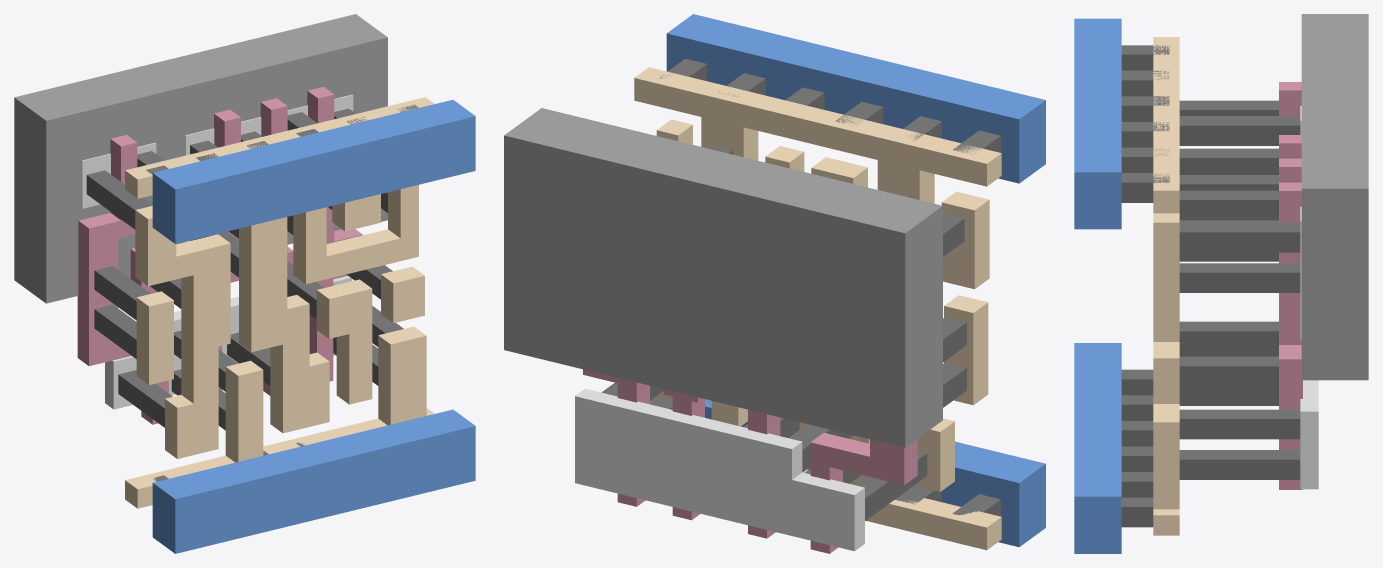
The model's file is sky130_fd_sc_hd__a21boi_1.gds.gltf.
3 renders of one model, left to right at view 1: azimuth 30°, elevation 25°; view 2: azimuth 150°, elevation 25°; view 3: azimuth 270°, elevation 25°, orthographic. The views are drawn at different scales.
Visible parts, largest first — view 1: sky130_fd_sc_hd__a21boi_1_li1, sky130_fd_sc_hd__a21boi_1_met1, sky130_fd_sc_hd__a21boi_1_nwell, sky130_fd_sc_hd__a21boi_1_licon, sky130_fd_sc_hd__a21boi_1_poly, sky130_fd_sc_hd__a21boi_1_diff, sky130_fd_sc_hd__a21boi_1_mcon; view 2: sky130_fd_sc_hd__a21boi_1_nwell, sky130_fd_sc_hd__a21boi_1_li1, sky130_fd_sc_hd__a21boi_1_met1, sky130_fd_sc_hd__a21boi_1_diff, sky130_fd_sc_hd__a21boi_1_poly, sky130_fd_sc_hd__a21boi_1_licon, sky130_fd_sc_hd__a21boi_1_mcon; view 3: sky130_fd_sc_hd__a21boi_1_licon, sky130_fd_sc_hd__a21boi_1_nwell, sky130_fd_sc_hd__a21boi_1_met1, sky130_fd_sc_hd__a21boi_1_li1, sky130_fd_sc_hd__a21boi_1_mcon, sky130_fd_sc_hd__a21boi_1_poly, sky130_fd_sc_hd__a21boi_1_diff.
Part boxes in pixels (x1=…): sky130_fd_sc_hd__a21boi_1_li1: x1=125, y1=97, x2=434, y2=508; sky130_fd_sc_hd__a21boi_1_met1: x1=152, y1=99, x2=475, y2=553; sky130_fd_sc_hd__a21boi_1_nwell: x1=14, y1=14, x2=387, y2=303; sky130_fd_sc_hd__a21boi_1_licon: x1=86, y1=108, x2=403, y2=430; sky130_fd_sc_hd__a21boi_1_poly: x1=77, y1=86, x2=362, y2=424; sky130_fd_sc_hd__a21boi_1_diff: x1=81, y1=94, x2=353, y2=409; sky130_fd_sc_hd__a21boi_1_mcon: x1=146, y1=104, x2=418, y2=481; sky130_fd_sc_hd__a21boi_1_nwell: x1=504, y1=108, x2=942, y2=447; sky130_fd_sc_hd__a21boi_1_li1: x1=634, y1=67, x2=1001, y2=550; sky130_fd_sc_hd__a21boi_1_met1: x1=666, y1=14, x2=1045, y2=547; sky130_fd_sc_hd__a21boi_1_diff: x1=575, y1=388, x2=864, y2=551; sky130_fd_sc_hd__a21boi_1_poly: x1=583, y1=369, x2=917, y2=553; sky130_fd_sc_hd__a21boi_1_licon: x1=601, y1=145, x2=966, y2=520; sky130_fd_sc_hd__a21boi_1_mcon: x1=658, y1=58, x2=1000, y2=516; sky130_fd_sc_hd__a21boi_1_licon: x1=1179, y1=100, x2=1300, y2=479; sky130_fd_sc_hd__a21boi_1_nwell: x1=1301, y1=14, x2=1368, y2=380; sky130_fd_sc_hd__a21boi_1_met1: x1=1074, y1=18, x2=1121, y2=553; sky130_fd_sc_hd__a21boi_1_li1: x1=1153, y1=37, x2=1179, y2=535; sky130_fd_sc_hd__a21boi_1_mcon: x1=1121, y1=45, x2=1169, y2=527; sky130_fd_sc_hd__a21boi_1_poly: x1=1279, y1=82, x2=1302, y2=489; sky130_fd_sc_hd__a21boi_1_diff: x1=1300, y1=106, x2=1318, y2=489.
Bounding box in the file's own units: 3.14 × 3.2 × 2.24.
